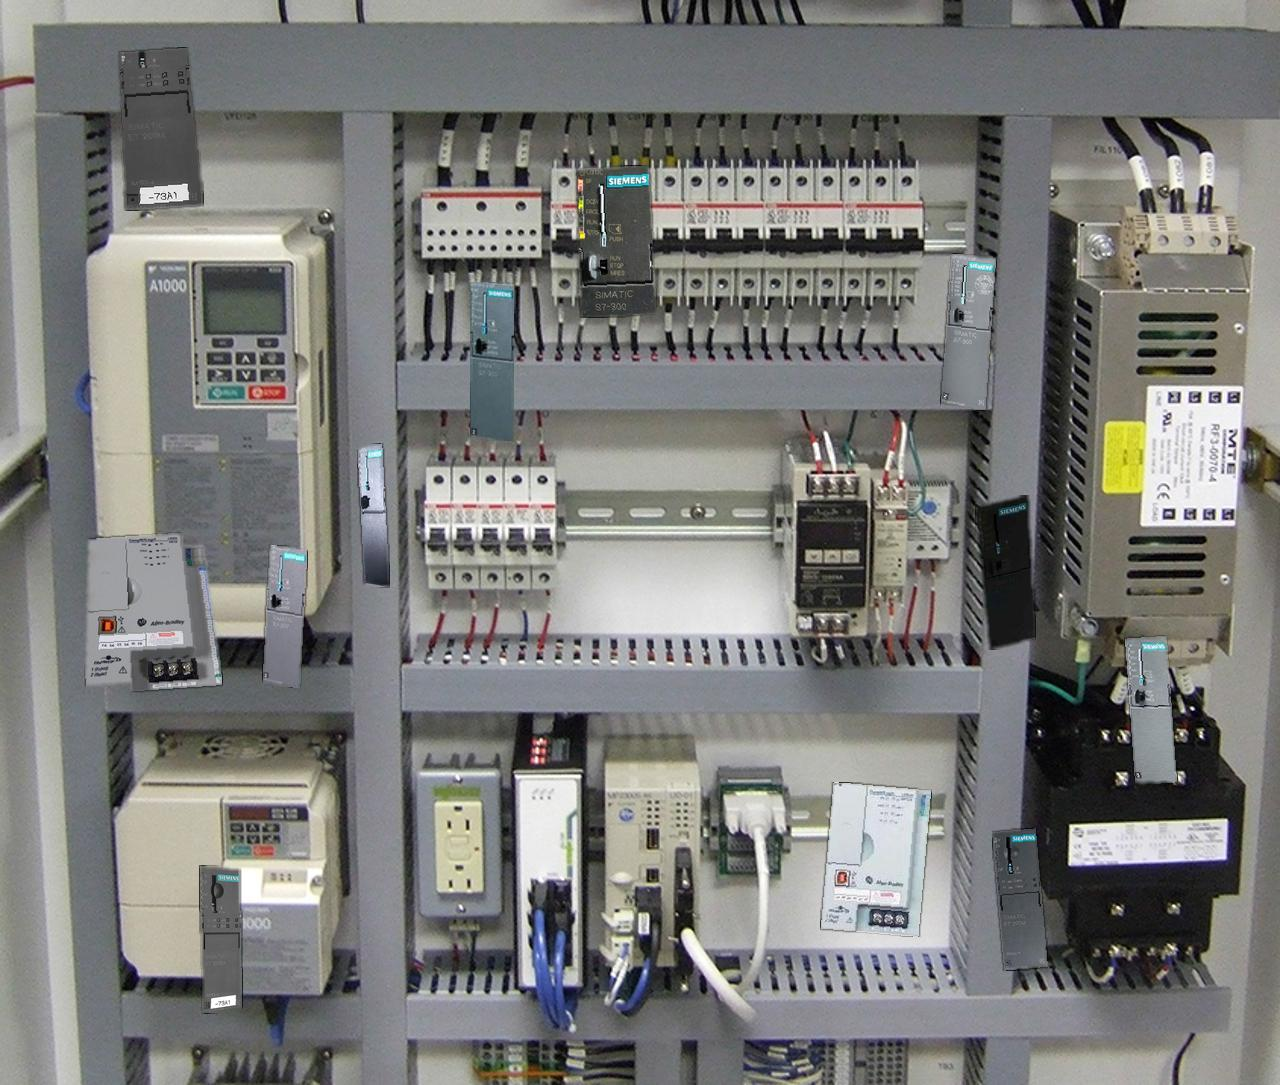AllenBradley: (86, 534, 221, 690), (821, 783, 930, 935)
Siemens: (576, 165, 655, 318), (976, 495, 1033, 649), (941, 254, 995, 409), (1125, 637, 1176, 783), (470, 282, 514, 440), (263, 545, 306, 687), (358, 443, 389, 584)
